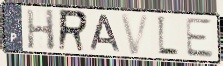A: (88, 13, 122, 53)
E: (184, 16, 215, 59)
H: (25, 8, 57, 52)
L: (156, 14, 180, 58)
R: (56, 8, 90, 53)
V: (118, 12, 152, 56)
